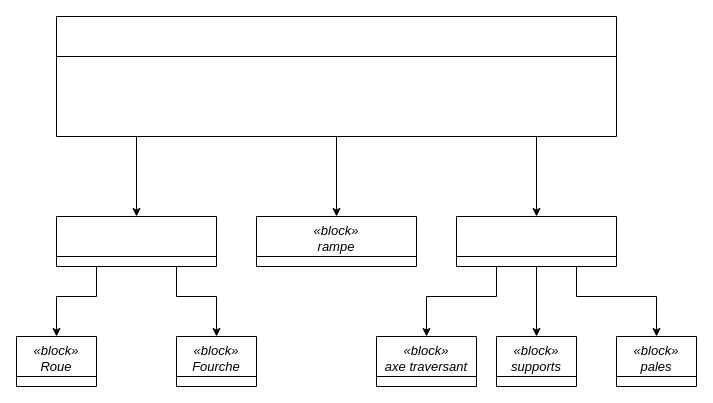
Image size: 713x403. Some labels were removed from this diagram. Here are the shapes that lost their labels. From the top down, the centre of each, then its label:
the point at 336,76: «système» Robot Sumo
the point at 136,241: «block» Roue folle
the point at 536,241: «block» hélice
